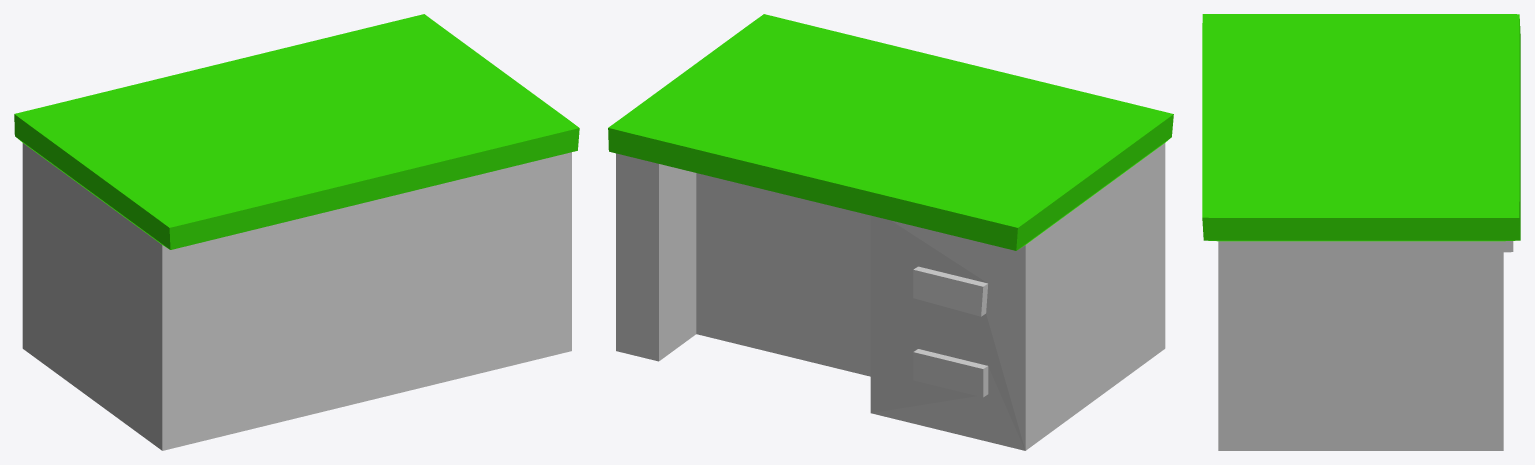
The model's file is Lab_Table.fbx.
3 views of the same model, side by side, from view 1: azimuth 30°, elevation 25°; view 2: azimuth 150°, elevation 25°; view 3: azimuth 270°, elevation 25° (orthographic).
Parts seen in each view (by area): view 1: Cube.129; view 2: Cube.129; view 3: Cube.129.
Boxes of the visible parts, x1=… form: Cube.129: x1=14, y1=14, x2=579, y2=450; Cube.129: x1=608, y1=14, x2=1173, y2=450; Cube.129: x1=1202, y1=14, x2=1520, y2=450.
Size of the model in its own units: 1129 by 602 by 745.
